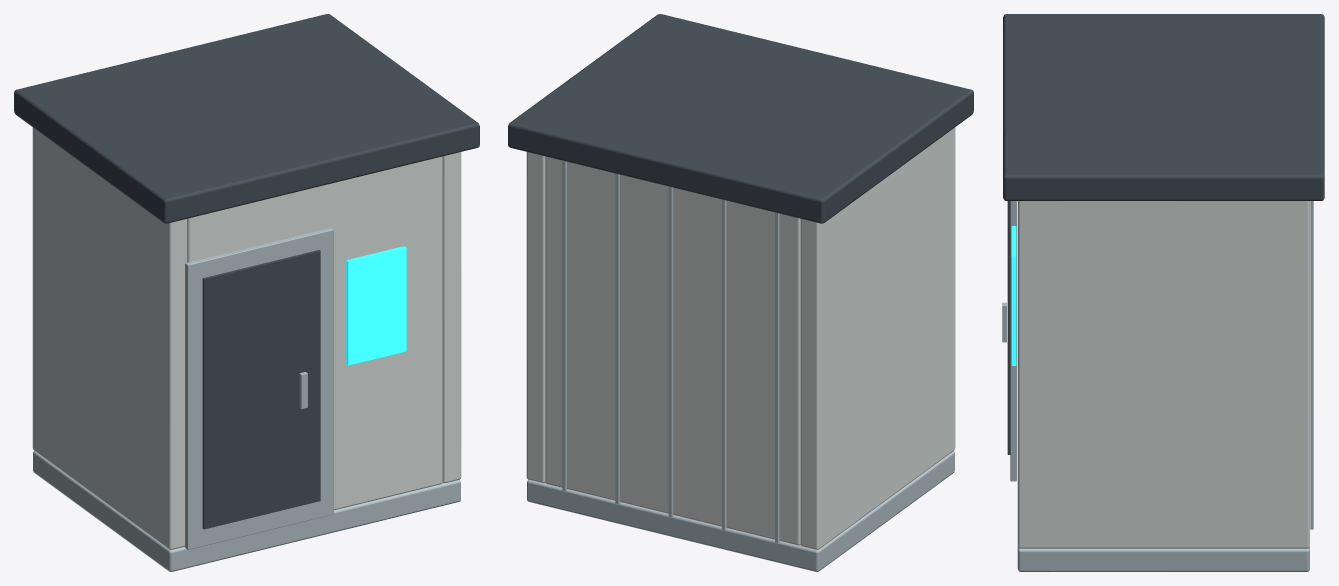
The model's file is data-centre-infiltration-kit-data-centre-infiltration--c70bcc51__29274.glb.
The picture shows the model from 3 angles, left to right: view 1: azimuth 30°, elevation 25°; view 2: azimuth 150°, elevation 25°; view 3: azimuth 270°, elevation 25°; orthographic projection. The views are drawn at different scales.
Visible parts, largest first — view 1: data-centre-infiltration-kit-security-booth; view 2: data-centre-infiltration-kit-security-booth; view 3: data-centre-infiltration-kit-security-booth.
Part boxes in pixels (box(x1,y1,x2,y2)): data-centre-infiltration-kit-security-booth: box(14, 14, 479, 571); data-centre-infiltration-kit-security-booth: box(508, 14, 973, 571); data-centre-infiltration-kit-security-booth: box(1002, 14, 1324, 571).
Size of the model in its own units: 2.38 by 2.74 by 1.99.
